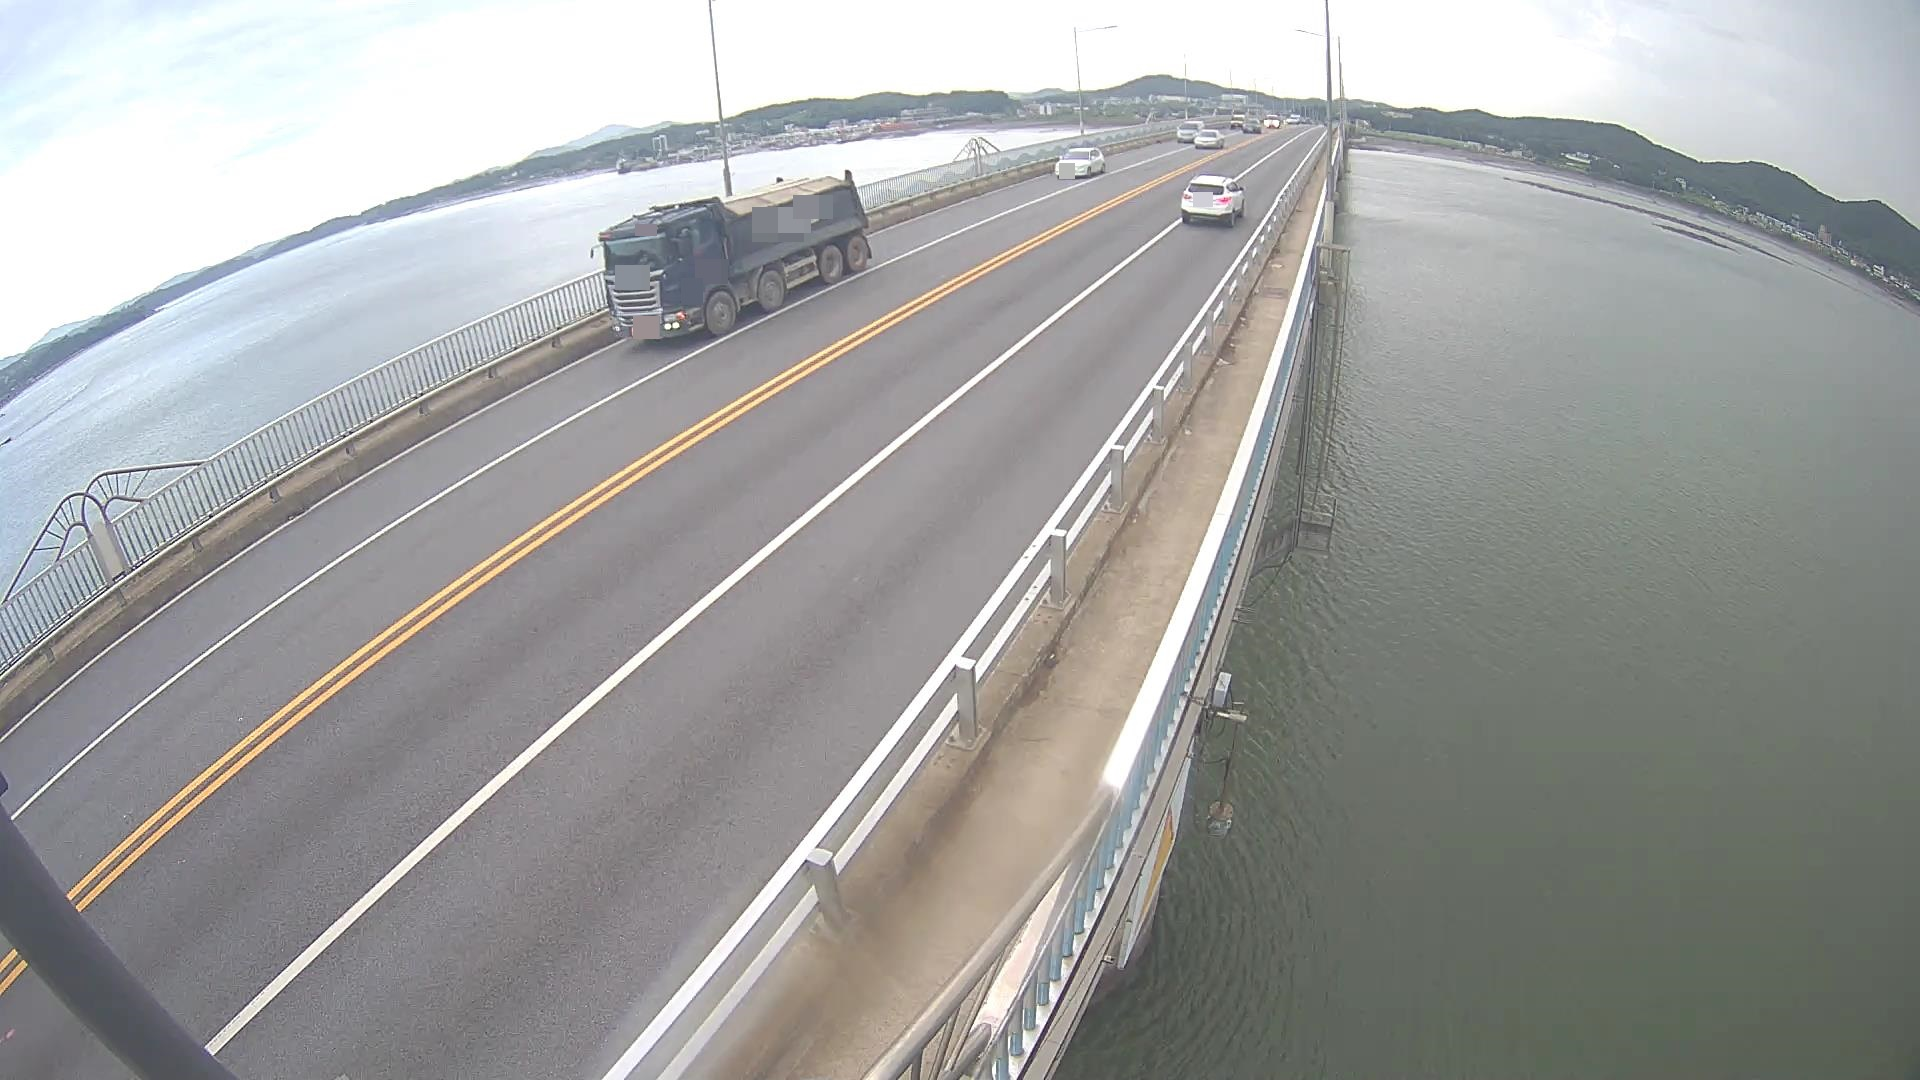정상차량: (588, 167, 873, 339)
